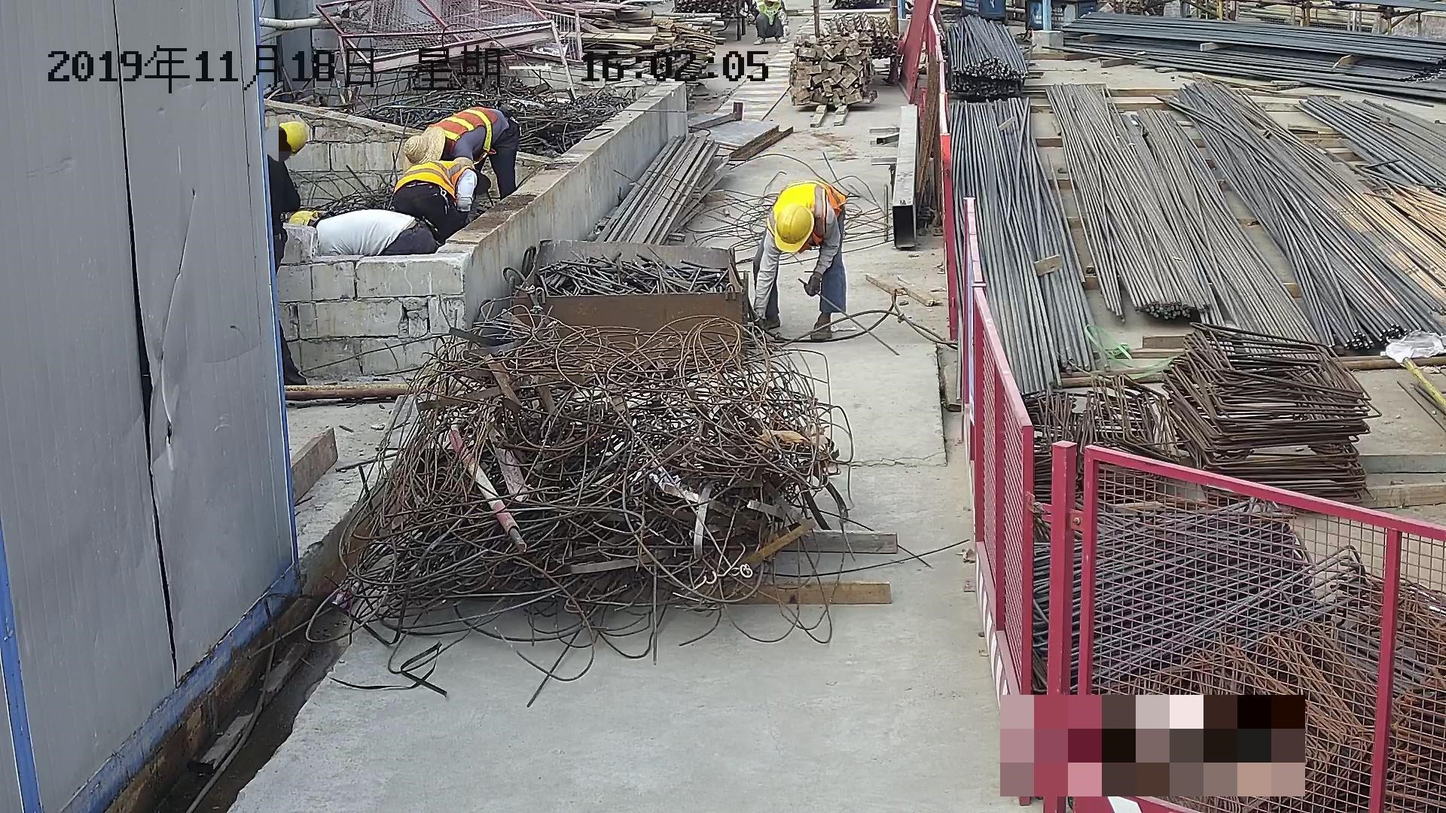hat: (268, 118, 311, 160)
